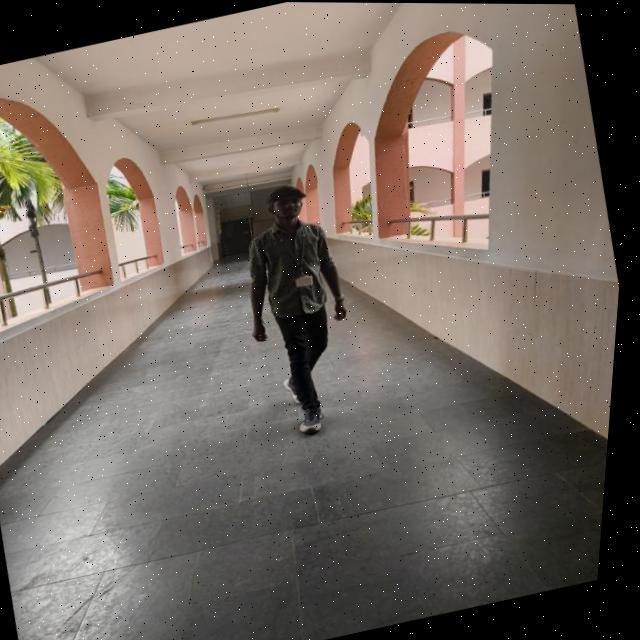id_card: (276, 230, 327, 295)
